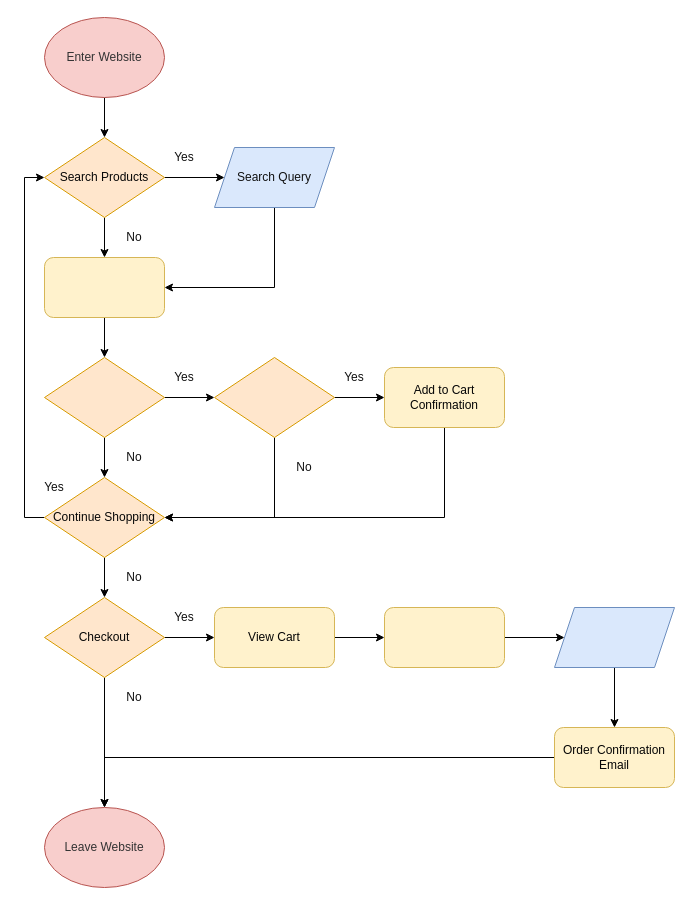
The diagram is 692 pixels wide and 905 high, and some of its shapes have lost their labels. The shapes that lost their labels are listed below. From the top down, each one's centre as x and y in pixels, then its label:
At point 104,287: "View Products".
At point 104,397: "View Product Details".
At point 274,397: "Add to Cart".
At point 444,637: "View Payment".
At point 614,637: "Payment Information".
